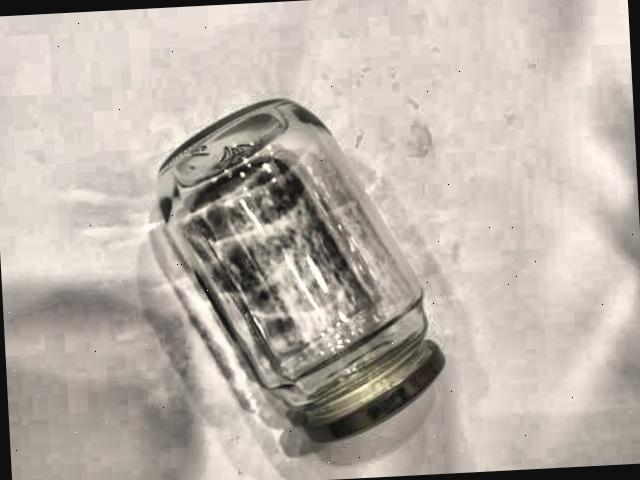Almennt: (132, 91, 451, 471)
